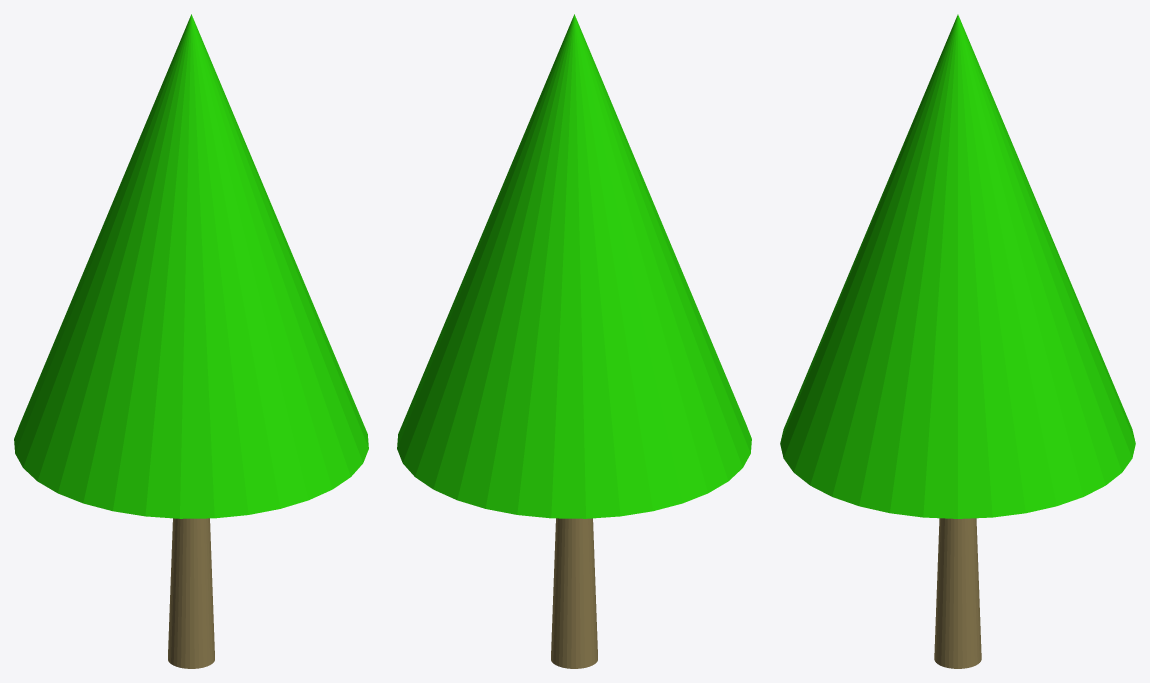
File: Tree.glb
The picture shows the model from 3 angles, left to right: view 1: azimuth 30°, elevation 25°; view 2: azimuth 150°, elevation 25°; view 3: azimuth 270°, elevation 25°; orthographic projection.
Parts seen in each view (by area): view 1: Tree; view 2: Tree; view 3: Tree.
Boxes of the visible parts, x1,y1,x2,y2 form: Tree: (14,14,368,668); Tree: (397,14,751,668); Tree: (780,14,1135,668).
Bounding box in the file's own units: 1.5 × 3 × 1.5.
